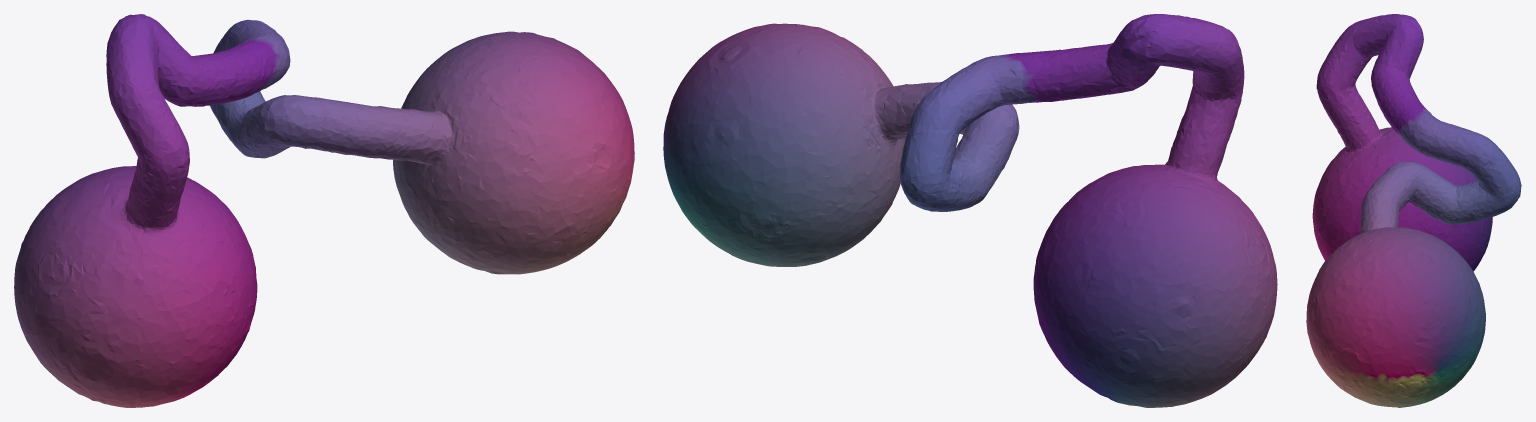
File: twoballs-10.off.obj
3 renders of one model, left to right at view 1: azimuth 30°, elevation 25°; view 2: azimuth 150°, elevation 25°; view 3: azimuth 270°, elevation 25°, orthographic. The views are drawn at different scales.
Bounding box in the file's own units: 1.68 × 1.04 × 0.7232.
